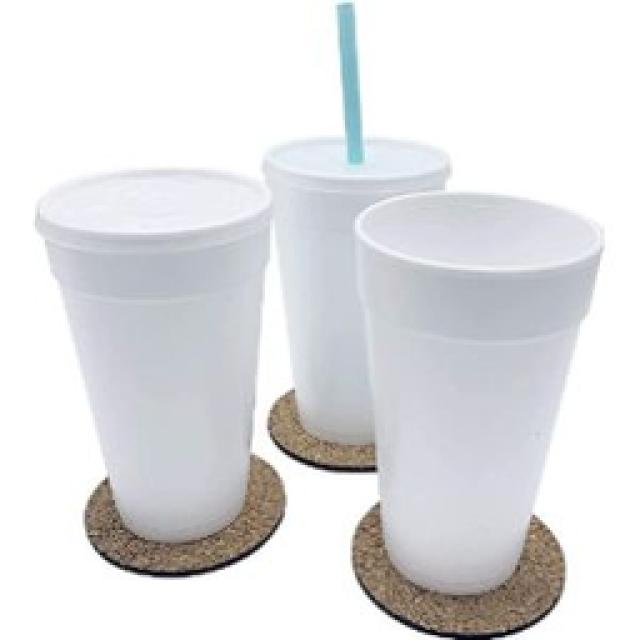styrofoam: (35, 138, 600, 592)
